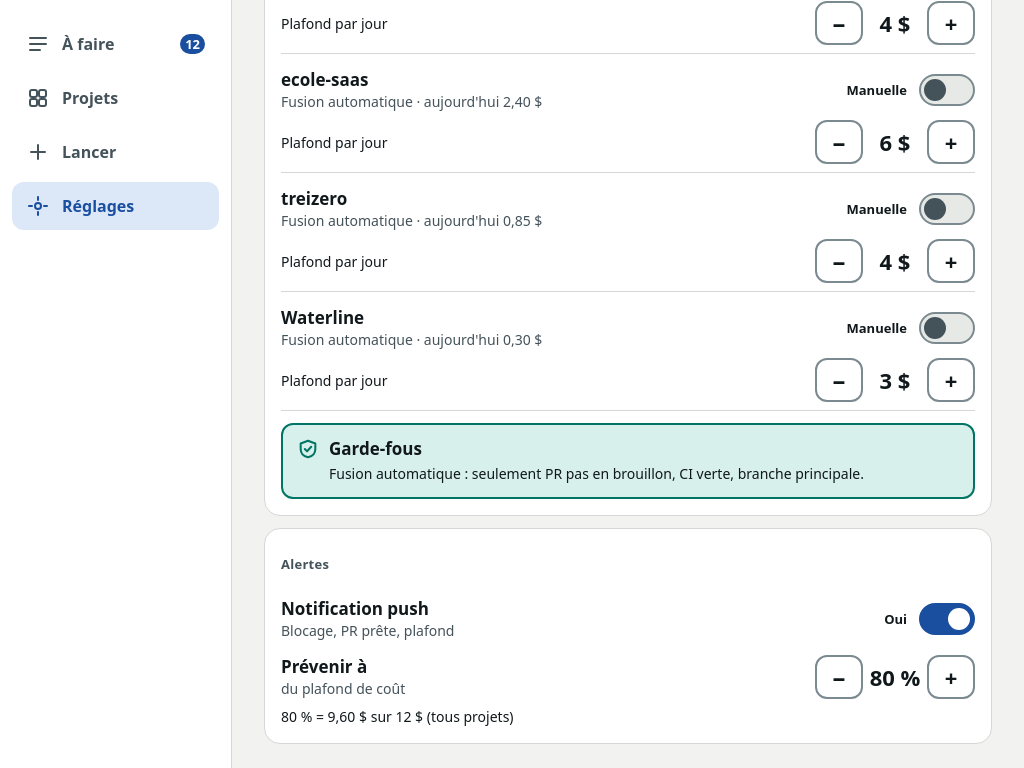
Réglages › interrupteurs : role="switch", aria-checked, mot écrit, toute la ligne cliquable
The width and height of the screenshot is (1024, 768).
(page scrolled)
Check: the switch labelled "Notification push Blocage, PR prête, plafond Oui" is shown, box x1=281 y1=591 x2=975 y2=647
Click the text "Blocage, PR prête, plafond". click: (368, 630)
box: x1=281 y1=621 x2=454 y2=640
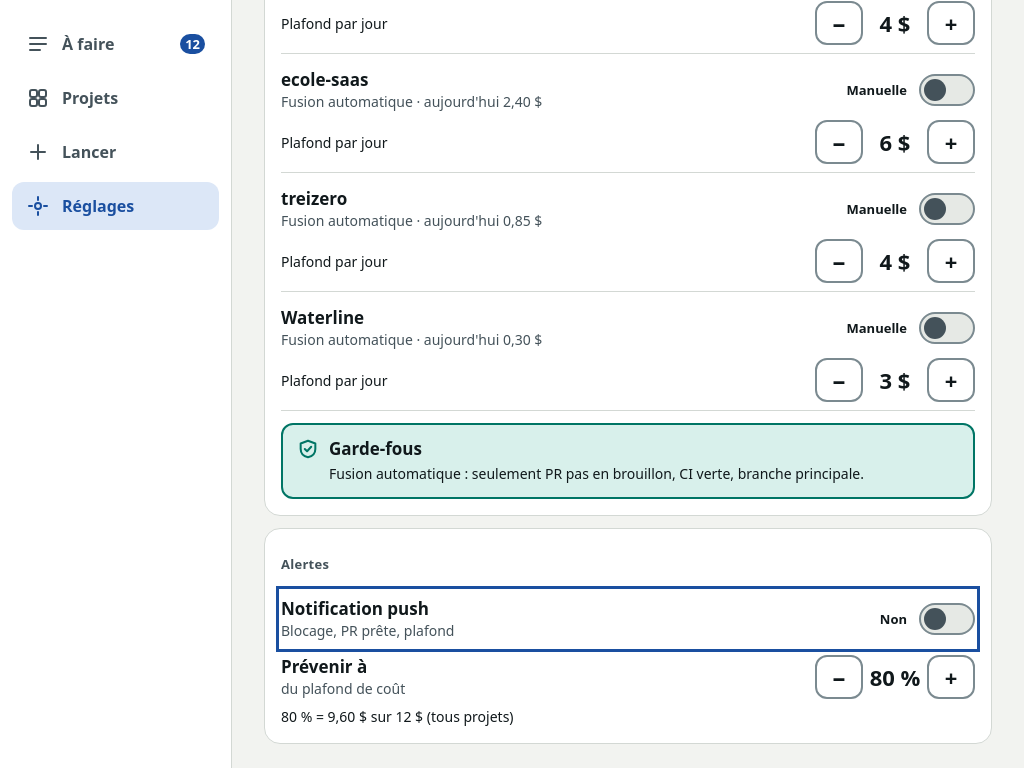
Check: the switch labelled "Notification push Blocage, PR prête, plafond Non" is shown, box x1=281 y1=591 x2=975 y2=647
